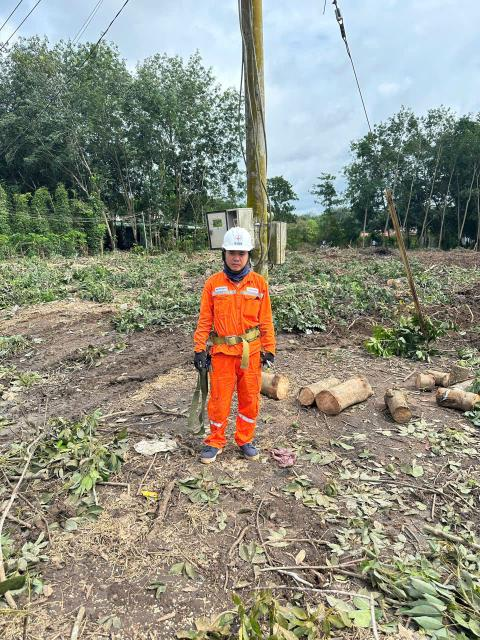gloves: (257, 346, 280, 372), (192, 348, 209, 373)
harness: (204, 326, 263, 349)
helmet: (222, 223, 258, 255)
shoes: (194, 443, 228, 472), (232, 436, 261, 464)
